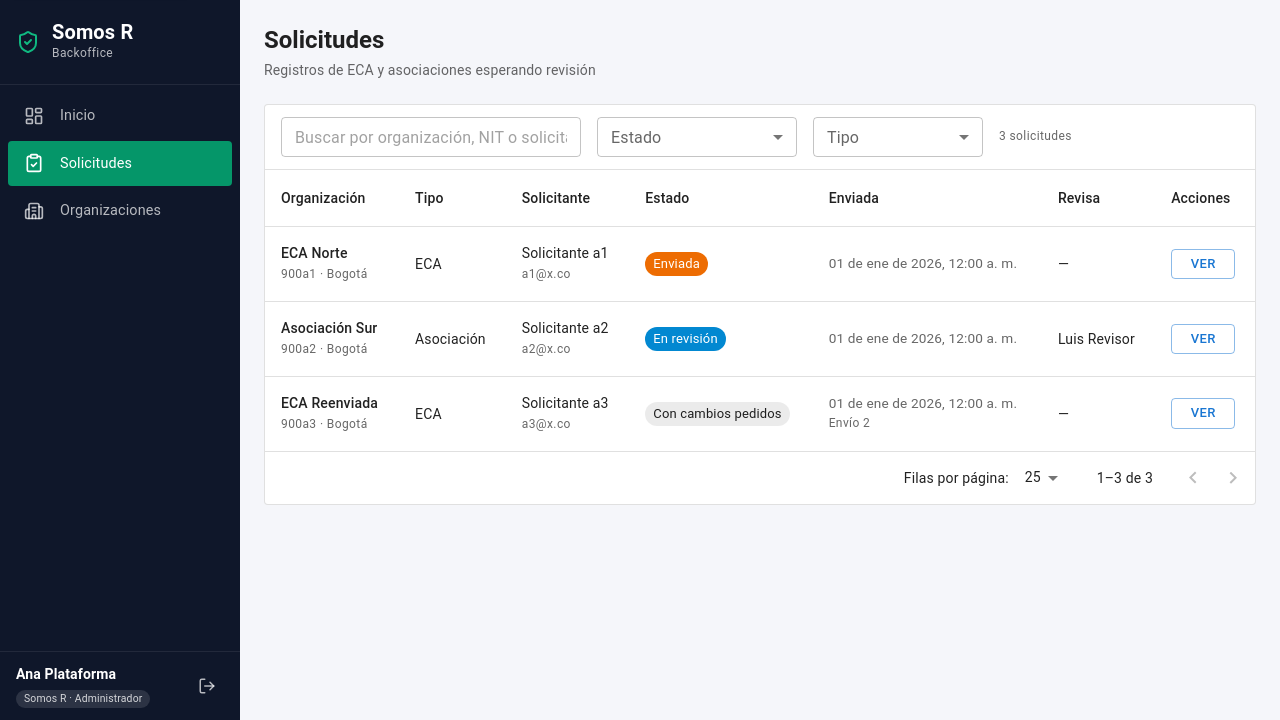
Test: deciding › rejects with the summary
Click the button "Ver" in the row of "ECA Norte": (1203, 264) left=1171, top=249, right=1235, bottom=279
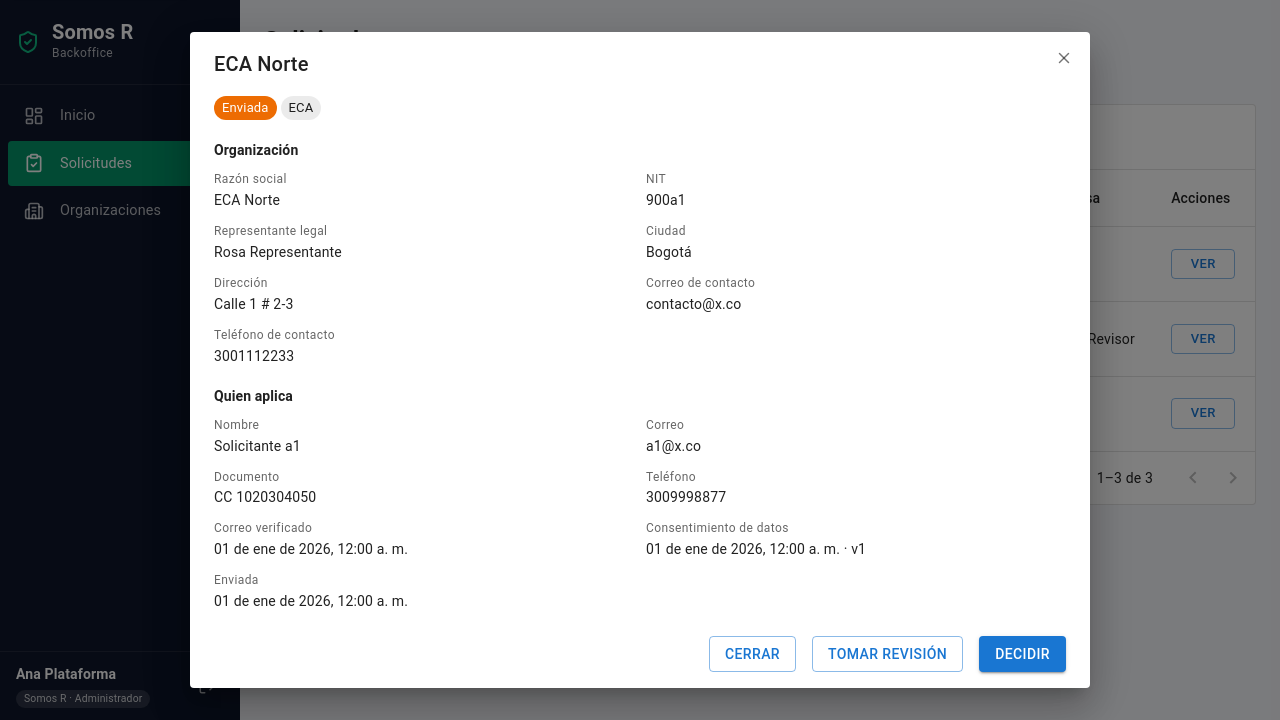
Click the button "Decidir": (1023, 654) left=979, top=636, right=1066, bottom=672
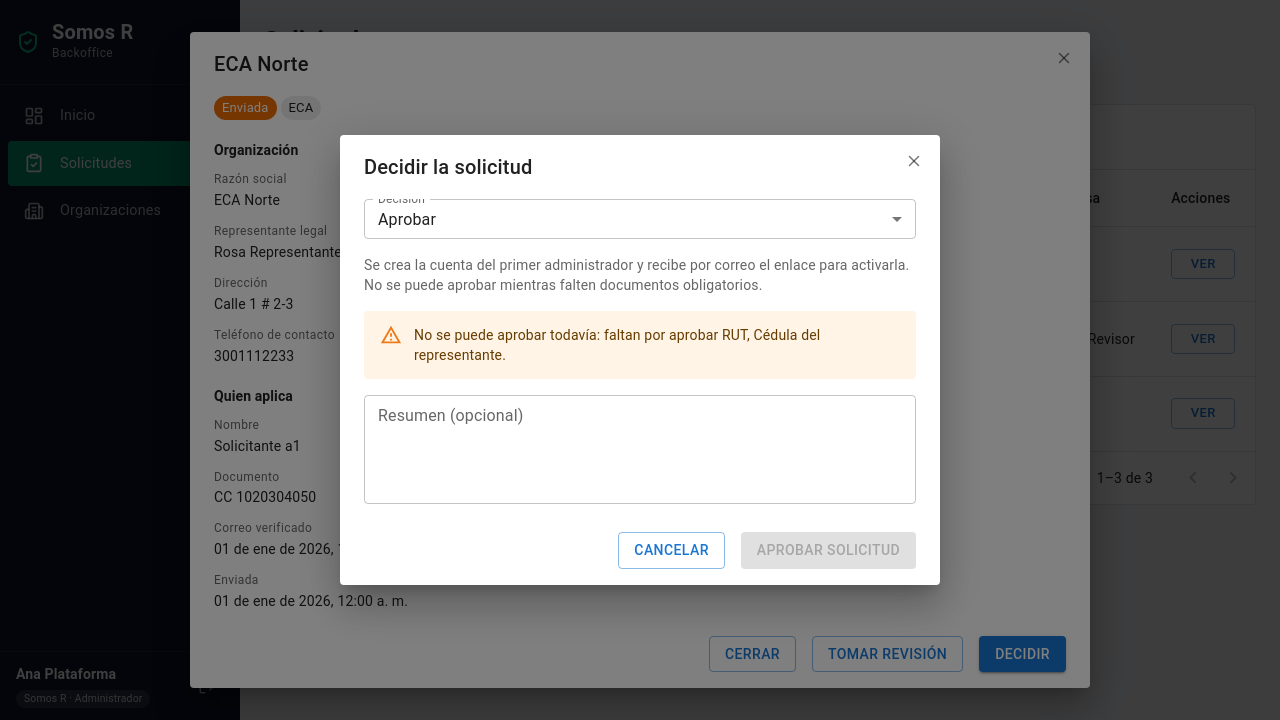
Click the dropdown named "Decisión": (407, 219) left=378, top=210, right=436, bottom=229
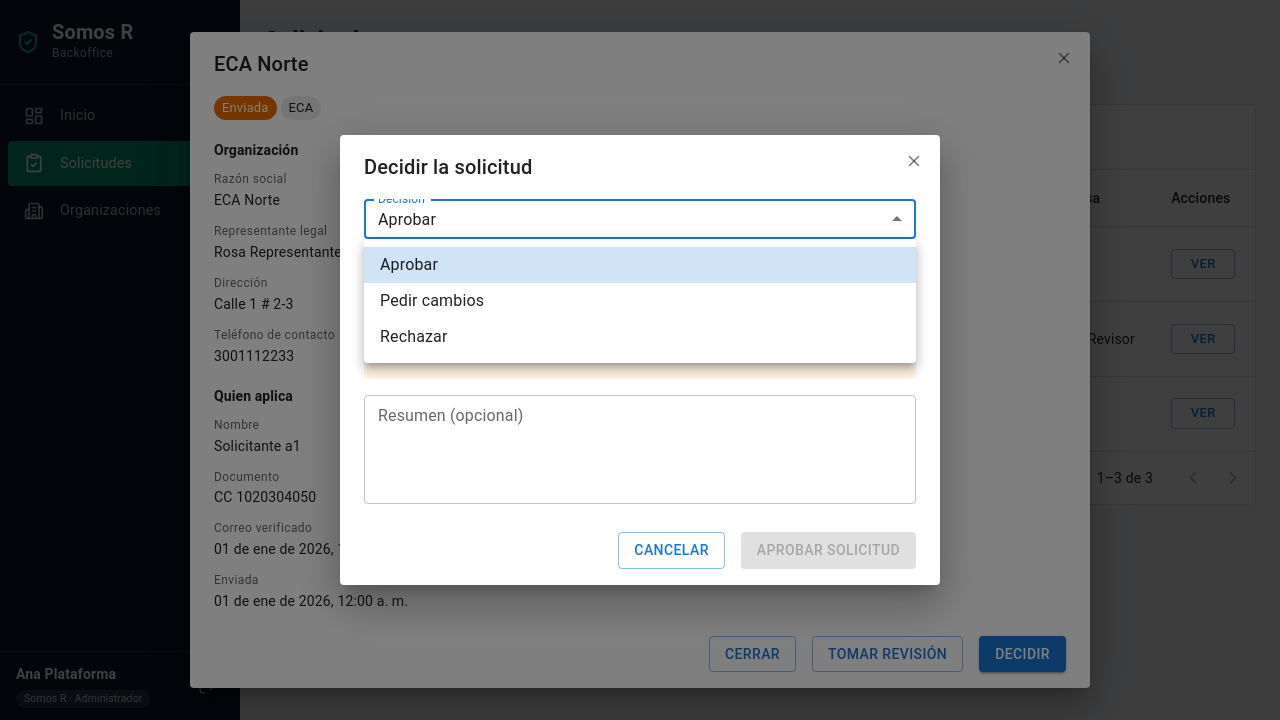
Click the option "Rechazar": (414, 336) left=380, top=327, right=448, bottom=346
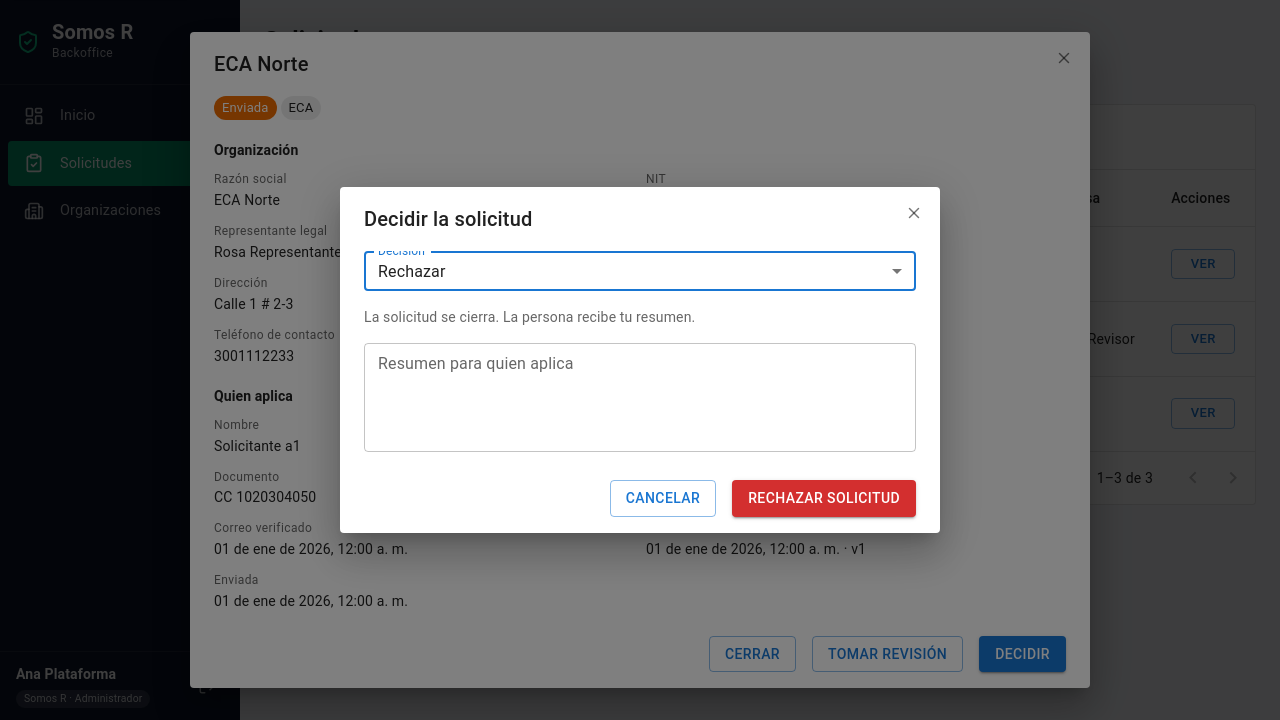
In the text box labelled "Resumen para quien aplica": (640, 398) left=378, top=352, right=902, bottom=444, type "No cumple los requisitos de habilitación"
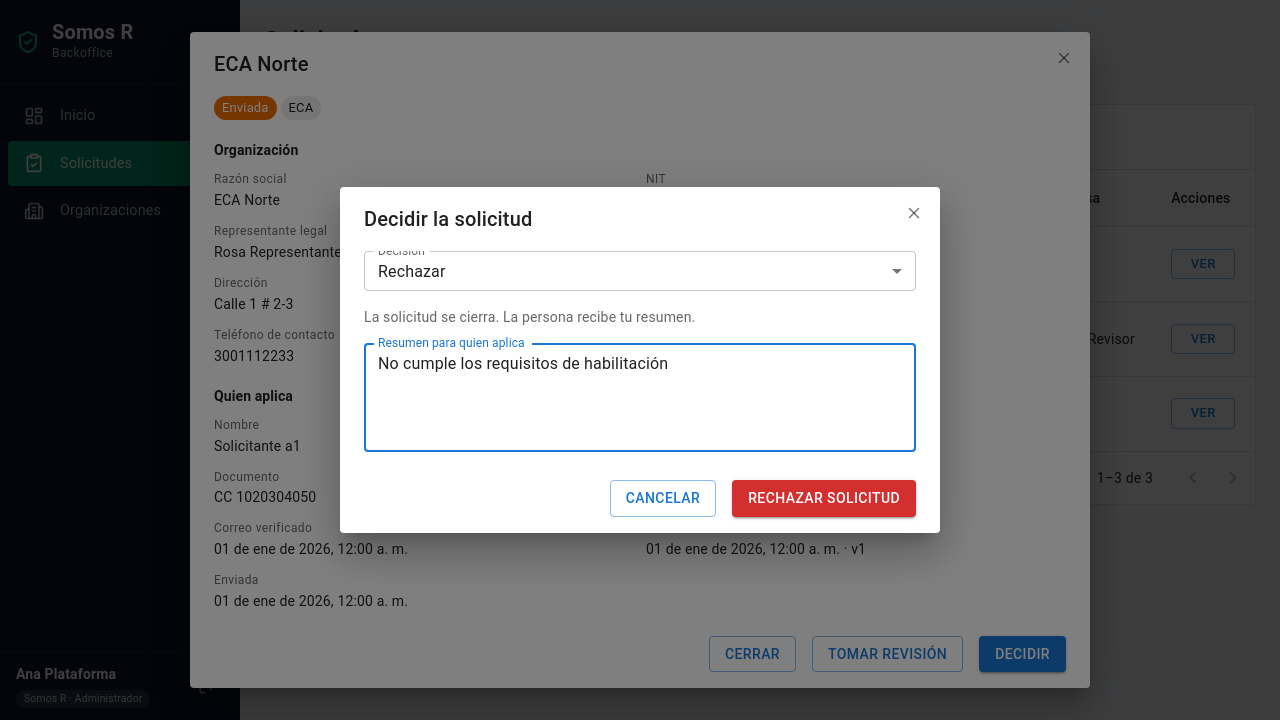
Click the button "Rechazar solicitud": (824, 499) left=732, top=480, right=916, bottom=517
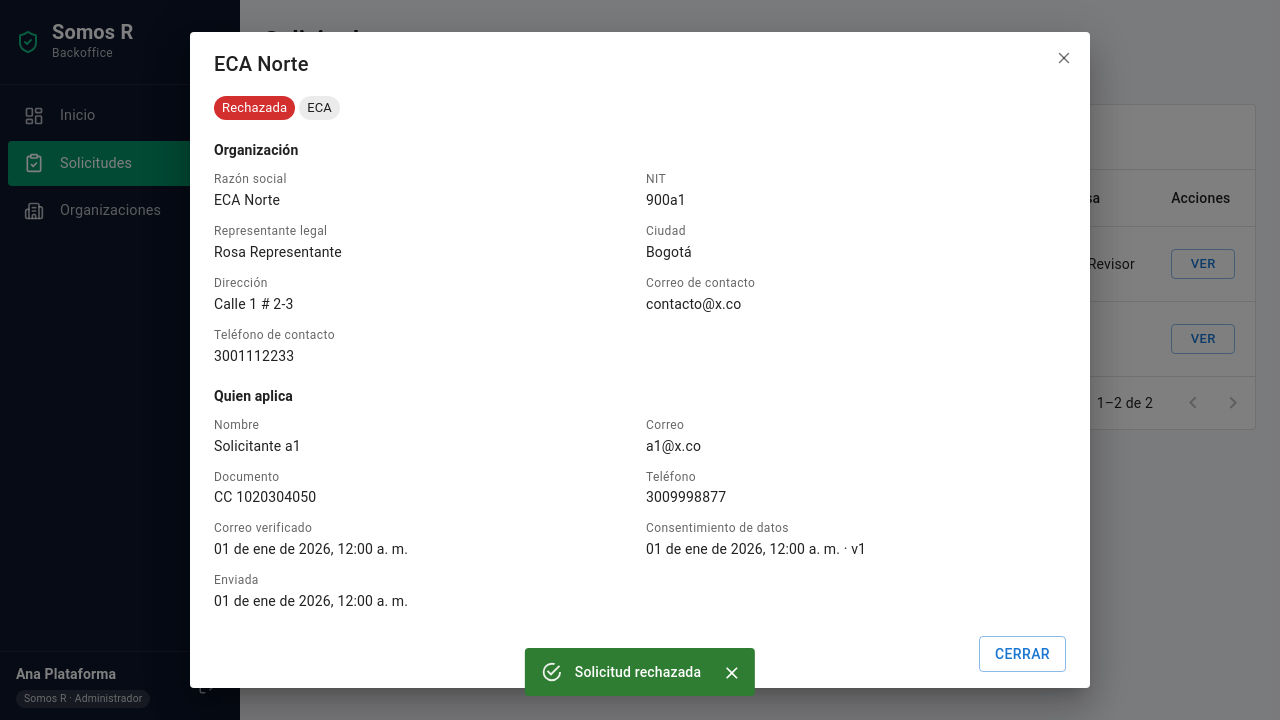
Now the text "Solicitud rechazada" is shown, box left=575, top=664, right=701, bottom=680
